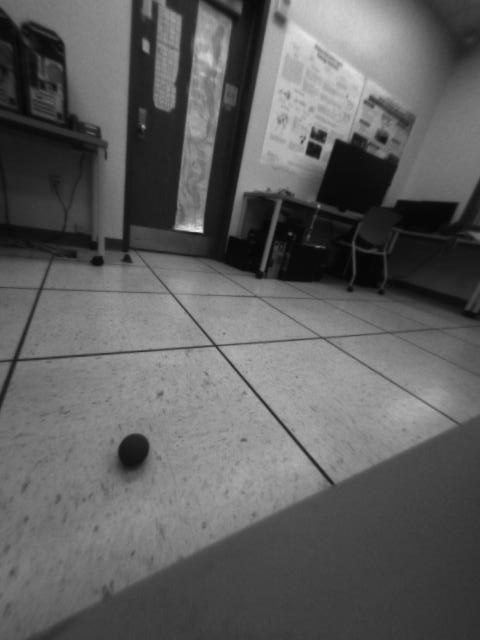dogtoy: (111, 427, 156, 472)
